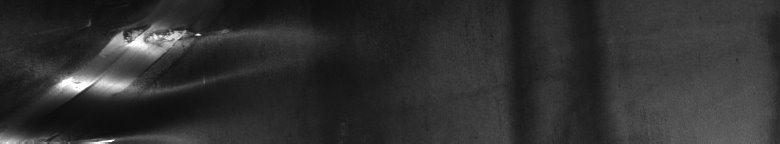ke: (132, 16, 267, 136)
